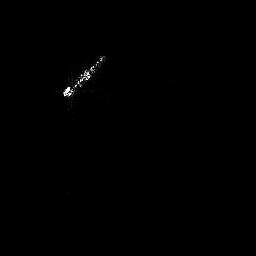ship: (61, 53, 109, 109)
